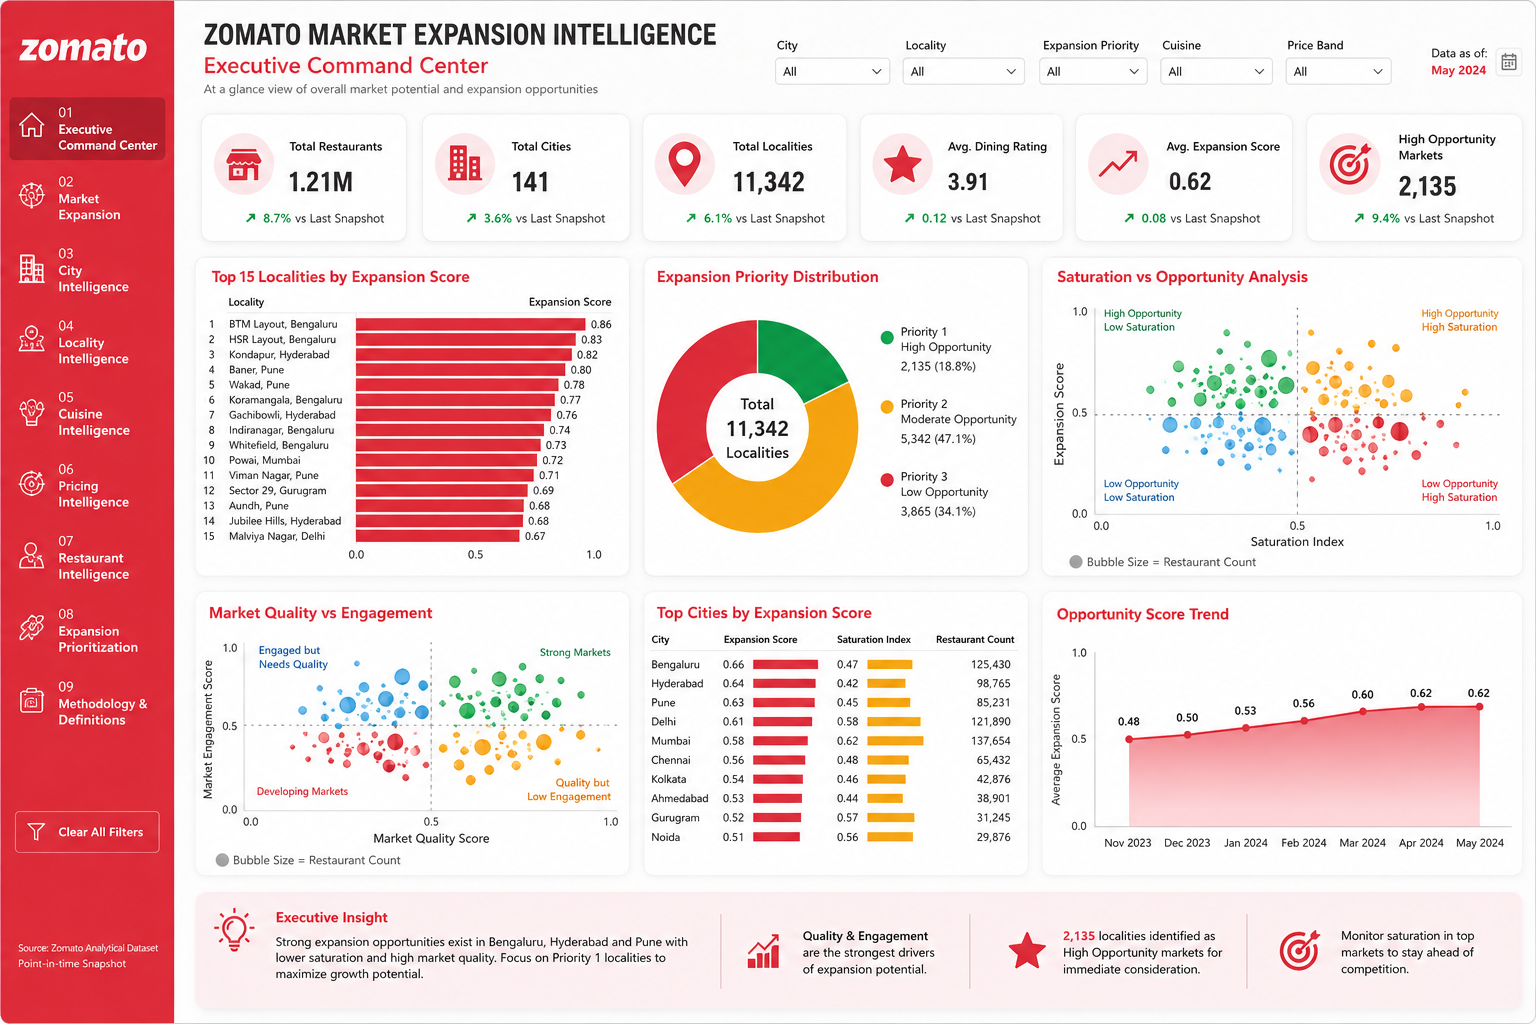

The dashboard page shown, as its layout file describes it:
{"tool":"powerbi","page":{"name":"01 Executive Command Center","canvas":[1280,720],"ordinal":0},"visuals":[{"type":"shape","box":[0,0,178.8,720],"z":0},{"type":"shape","box":[20,71.2,140,56.2],"z":0,"group":"g1"},{"type":"shape","box":[20,130,140,56.2],"z":0,"group":"g2"},{"type":"shape","box":[20,189,140,56.2],"z":0,"group":"g3"},{"type":"shape","box":[20,248,140,56.2],"z":0,"group":"g4"},{"type":"shape","box":[20,307,140,56.2],"z":0,"group":"g5"},{"type":"shape","box":[20,366,140,56.2],"z":0,"group":"g6"},{"type":"shape","box":[20,425,140,56.2],"z":0,"group":"g7"},{"type":"shape","box":[20,484,140,56.2],"z":0,"group":"g8"},{"type":"shape","box":[20,543,140,56.2],"z":0,"group":"g9"},{"type":"image","box":[11.2,12.5,157.5,46.2],"z":1000},{"type":"textbox","box":[64,72.4,25.5,21],"z":1000,"group":"g1"},{"type":"textbox","box":[64,131.2,25.5,21],"z":1000,"group":"g2"},{"type":"textbox","box":[64,190.2,25.5,21],"z":1000,"group":"g3"},{"type":"textbox","box":[64,249.2,25.5,21],"z":1000,"group":"g4"},{"type":"textbox","box":[64,308.2,25.5,21],"z":1000,"group":"g5"},{"type":"textbox","box":[64,367.2,25.5,21],"z":1000,"group":"g6"},{"type":"textbox","box":[64,426.2,25.5,21],"z":1000,"group":"g7"},{"type":"textbox","box":[64,485.2,25.5,21],"z":1000,"group":"g8"},{"type":"textbox","box":[64,544.2,25.5,21],"z":1000,"group":"g9"},{"type":"shape","box":[202.5,86.2,178.8,121.2],"z":2000},{"type":"textbox","box":[67,88,89,42],"z":2000,"group":"g1"},{"type":"textbox","box":[67,146.8,89,42],"z":2000,"group":"g2"},{"type":"textbox","box":[67,205.8,89,42],"z":2000,"group":"g3"},{"type":"textbox","box":[67,264.8,89,42],"z":2000,"group":"g4"},{"type":"textbox","box":[67,323.8,89,42],"z":2000,"group":"g5"},{"type":"textbox","box":[67,382.8,89,42],"z":2000,"group":"g6"},{"type":"textbox","box":[67,441.8,89,42],"z":2000,"group":"g7"},{"type":"textbox","box":[67,500.8,89,42],"z":2000,"group":"g8"},{"type":"textbox","box":[67,559.8,89,42],"z":2000,"group":"g9"},{"type":"shape","box":[381.2,86.2,178.8,121.2],"z":3000},{"type":"shape","box":[560,86.2,178.8,122.5],"z":4000},{"type":"shape","box":[738.8,87.5,178.8,121.2],"z":5000},{"type":"shape","box":[917.5,87.5,178.8,123.8],"z":6000},{"type":"shape","box":[1096.2,86.2,178.8,125],"z":7000},{"type":"shape","box":[202.5,211.2,357.5,212.5],"z":8000},{"type":"shape","box":[560,211.2,357.5,212.5],"z":9000},{"type":"shape","box":[922.5,211.2,357.5,212.5],"z":10000},{"type":"shape","box":[202.5,423.8,357.5,212.5],"z":11000},{"type":"shape","box":[560,423.8,357.5,212.5],"z":12000},{"type":"shape","box":[917.5,423.8,362.5,212.5],"z":13000},{"type":"shape","box":[20.3,626.7,139.8,37.2],"z":14000},{"type":"textbox","box":[0,672.5,178.8,47.5],"z":15000},{"type":"textbox","box":[53,631.2,107.1,29.3],"z":16000},{"type":"image","box":[20,631.8,36.1,27.1],"z":17000},{"type":"group","id":"g1","title":"Group 1","box":[20,71.2,140,58.8],"z":18000},{"type":"group","id":"g2","title":"Group 1","box":[20,130,140,58.3],"z":19000},{"type":"group","id":"g3","title":"Group 1","box":[20,189,140,59],"z":20000},{"type":"group","id":"g4","title":"Group 1","box":[20,248,140,59],"z":21000},{"type":"group","id":"g5","title":"Group 1","box":[20,307,140,59],"z":22000},{"type":"group","id":"g6","title":"Group 1","box":[20,366,140,59],"z":23000},{"type":"group","id":"g7","title":"Group 1","box":[20,425,140,59],"z":24000},{"type":"group","id":"g8","title":"Group 1","box":[20,484,140,59],"z":25000},{"type":"group","id":"g9","title":"Group 1","box":[20,543,140,59],"z":26000},{"type":"image","box":[27,82,33.3,35],"z":27000},{"type":"image","box":[26.7,140.8,33.3,35],"z":28000},{"type":"image","box":[26.7,200,33.3,35],"z":29000},{"type":"image","box":[26.7,260,33.3,35],"z":30000},{"type":"image","box":[26.7,317.5,33.3,35],"z":31000},{"type":"image","box":[26.7,376.7,33.3,35],"z":32000},{"type":"image","box":[26.7,435.8,33.3,35],"z":33000},{"type":"image","box":[26.7,495,33.3,35],"z":34000},{"type":"image","box":[26.7,553.3,33.3,35],"z":35000},{"type":"image","box":[219,123.5,57.5,47.5],"z":36000},{"type":"image","box":[397.5,123.5,57.5,47.5],"z":37000},{"type":"image","box":[576,123.5,57.5,47.5],"z":38000},{"type":"image","box":[755,123.5,57.5,47.5],"z":39000},{"type":"image","box":[928.8,123.8,57.5,47.5],"z":40000},{"type":"image","box":[1110,126.2,57.5,47.5],"z":41000},{"type":"cardVisual","fields":{"Data":["_Measure.Total Restaurants"]},"box":[257.5,123.3,102,60],"z":42000},{"type":"cardVisual","fields":{"Data":["_Measure.Total Cities"]},"box":[455.4,123.8,86.2,60],"z":43000},{"type":"cardVisual","fields":{"Data":["_Measure.Total Localities"]},"box":[613.1,123.8,106.2,60],"z":44000},{"type":"cardVisual","fields":{"Data":["_Measure.Average Dining Rating"]},"box":[793.8,123.1,113.8,60],"z":45000},{"type":"cardVisual","fields":{"Data":["_Measure.Average Expansion Score"]},"box":[986.2,123.8,90,60],"z":46000},{"type":"cardVisual","fields":{"Data":["_Measure.High Opportunity Markets"]},"box":[1179.2,127.7,58.5,60],"z":47000},{"type":"textbox","box":[273,114,89.2,21.2],"z":48000},{"type":"textbox","box":[470,115,60,21],"z":49000},{"type":"textbox","box":[633,115,78,17.5],"z":50000},{"type":"textbox","box":[805,115,102.5,22.5],"z":51000},{"type":"textbox","box":[978,115,118,22.5],"z":52000},{"type":"textbox","box":[1159,110,102.5,37.5],"z":53000},{"type":"shape","box":[202.5,636.2,1072.5,79],"z":54000},{"type":"clusteredColumnChart","title":"Top 7 Cities By Expansion Score","fields":{"Category":["City.city_name"],"Y":["_Measure.Average Expansion Score"]},"box":[217,225.7,330,187],"z":55000},{"type":"scatterChart","title":"Saturation vs Expansion Analysis","fields":{"Series":["City.city_name"],"Size":["Sum(Market Expansion.restaurant_count)"],"X":["Market Expansion.engineered_saturation_index"],"Y":["_Measure.Average Expansion Score"]},"box":[937.5,226.2,328.8,187.5],"z":56000},{"type":"textbox","box":[1171,252,96.4,53.6],"z":57000},{"type":"columnChart","title":"Top Cities By Expansion Score","fields":{"Category":["City.city_name"],"Y":["Sum(Market Expansion.restaurant_count)","Sum(Market Expansion.engineered_saturation_index)","Sum(Market Expansion.engineered_expansion_score)"]},"box":[573.8,433.8,330,192.5],"z":58000},{"type":"donutChart","title":"Restaurant In Top 5 Cities","fields":{"Category":["City.city_name"],"Y":["_Measure.Total Restaurants"]},"box":[570,218.9,337.8,193.3],"z":59000},{"type":"scatterChart","title":"Market Quality vs Engagement","fields":{"X":["Restaurants.quality_score"],"Y":["Sum(Restaurants.engagement_score)"]},"box":[216.7,430,343.3,196.7],"z":60000},{"type":"clusteredColumnChart","title":"Top 5 Cities With Higher Locality","fields":{"Category":["City.city_name"],"Y":["_Measure.Total Localities"]},"box":[930,436.7,336.7,190],"z":61000},{"type":"shape","box":[538.6,645.7,75.7,61.4],"z":62000},{"type":"shape","box":[791.4,645.7,75.7,61.4],"z":63000},{"type":"shape","box":[1037.1,645.7,75.7,61.4],"z":64000},{"type":"image","box":[591.2,656.2,43.6,40],"z":65000},{"type":"image","box":[845,656.2,43.6,40],"z":66000},{"type":"image","box":[1081.2,656.2,43.6,40],"z":67000},{"type":"image","box":[221.7,644.2,35.5,40],"z":68000},{"type":"textbox","box":[264,645,116.2,25],"z":69000},{"type":"textbox","box":[264,658,295,52.5],"z":70000},{"type":"textbox","box":[663,650,142,58],"z":71000},{"type":"textbox","box":[900,650,163.8,57.5],"z":72000},{"type":"textbox","box":[1133,650,137.5,57.5],"z":73000},{"type":"textbox","box":[210,9,482.5,46.2],"z":74000},{"type":"textbox","box":[213,38,262.5,36.2],"z":75000},{"type":"textbox","box":[213,65,447.5,28.8],"z":76000},{"type":"slicer","fields":{"Values":["City.city_name"]},"box":[699.2,14.9,118.3,71.7],"z":77000},{"type":"slicer","fields":{"Values":["Locality.locality_name"]},"box":[810.9,14.9,118.3,71.7],"z":78000},{"type":"slicer","fields":{"Values":["Market Expansion.expansion_priority"]},"box":[922.6,16,118.3,71.7],"z":79000},{"type":"slicer","fields":{"Values":["Cuisine.cuisine_name"]},"box":[1034.2,16,118.3,71.7],"z":80000},{"type":"slicer","fields":{"Values":["Price Band.price_band"]},"box":[1145.9,14.9,118.3,71.7],"z":81000}]}

Visuals, with their boxes on the page's 1280x720 design canvas (x1, y1, x2, y2). These are canvas units, not pixel positions in the 1536x1024 screenshot, which may show the page scaled, cropped or inside an application window:
shape: bbox=(0, 0, 179, 720)
shape: bbox=(20, 71, 160, 127)
shape: bbox=(20, 130, 160, 186)
shape: bbox=(20, 189, 160, 245)
shape: bbox=(20, 248, 160, 304)
shape: bbox=(20, 307, 160, 363)
shape: bbox=(20, 366, 160, 422)
shape: bbox=(20, 425, 160, 481)
shape: bbox=(20, 484, 160, 540)
shape: bbox=(20, 543, 160, 599)
image: bbox=(11, 12, 169, 59)
textbox: bbox=(64, 72, 90, 93)
textbox: bbox=(64, 131, 90, 152)
textbox: bbox=(64, 190, 90, 211)
textbox: bbox=(64, 249, 90, 270)
textbox: bbox=(64, 308, 90, 329)
textbox: bbox=(64, 367, 90, 388)
textbox: bbox=(64, 426, 90, 447)
textbox: bbox=(64, 485, 90, 506)
textbox: bbox=(64, 544, 90, 565)
shape: bbox=(202, 86, 381, 207)
textbox: bbox=(67, 88, 156, 130)
textbox: bbox=(67, 147, 156, 189)
textbox: bbox=(67, 206, 156, 248)
textbox: bbox=(67, 265, 156, 307)
textbox: bbox=(67, 324, 156, 366)
textbox: bbox=(67, 383, 156, 425)
textbox: bbox=(67, 442, 156, 484)
textbox: bbox=(67, 501, 156, 543)
textbox: bbox=(67, 560, 156, 602)
shape: bbox=(381, 86, 560, 207)
shape: bbox=(560, 86, 739, 209)
shape: bbox=(739, 88, 918, 209)
shape: bbox=(918, 88, 1096, 211)
shape: bbox=(1096, 86, 1275, 211)
shape: bbox=(202, 211, 560, 424)
shape: bbox=(560, 211, 918, 424)
shape: bbox=(922, 211, 1280, 424)
shape: bbox=(202, 424, 560, 636)
shape: bbox=(560, 424, 918, 636)
shape: bbox=(918, 424, 1280, 636)
shape: bbox=(20, 627, 160, 664)
textbox: bbox=(0, 672, 179, 720)
textbox: bbox=(53, 631, 160, 660)
image: bbox=(20, 632, 56, 659)
"Group 1" group: bbox=(20, 71, 160, 130)
"Group 1" group: bbox=(20, 130, 160, 188)
"Group 1" group: bbox=(20, 189, 160, 248)
"Group 1" group: bbox=(20, 248, 160, 307)
"Group 1" group: bbox=(20, 307, 160, 366)
"Group 1" group: bbox=(20, 366, 160, 425)
"Group 1" group: bbox=(20, 425, 160, 484)
"Group 1" group: bbox=(20, 484, 160, 543)
"Group 1" group: bbox=(20, 543, 160, 602)
image: bbox=(27, 82, 60, 117)
image: bbox=(27, 141, 60, 176)
image: bbox=(27, 200, 60, 235)
image: bbox=(27, 260, 60, 295)
image: bbox=(27, 318, 60, 352)
image: bbox=(27, 377, 60, 412)
image: bbox=(27, 436, 60, 471)
image: bbox=(27, 495, 60, 530)
image: bbox=(27, 553, 60, 588)
image: bbox=(219, 124, 276, 171)
image: bbox=(398, 124, 455, 171)
image: bbox=(576, 124, 634, 171)
image: bbox=(755, 124, 812, 171)
image: bbox=(929, 124, 986, 171)
image: bbox=(1110, 126, 1168, 174)
cardVisual - _Measure.Total Restaurants: bbox=(258, 123, 360, 183)
cardVisual - _Measure.Total Cities: bbox=(455, 124, 542, 184)
cardVisual - _Measure.Total Localities: bbox=(613, 124, 719, 184)
cardVisual - _Measure.Average Dining Rating: bbox=(794, 123, 908, 183)
cardVisual - _Measure.Average Expansion Score: bbox=(986, 124, 1076, 184)
cardVisual - _Measure.High Opportunity Markets: bbox=(1179, 128, 1238, 188)
textbox: bbox=(273, 114, 362, 135)
textbox: bbox=(470, 115, 530, 136)
textbox: bbox=(633, 115, 711, 132)
textbox: bbox=(805, 115, 908, 138)
textbox: bbox=(978, 115, 1096, 138)
textbox: bbox=(1159, 110, 1262, 148)
shape: bbox=(202, 636, 1275, 715)
"Top 7 Cities By Expansion Score" clusteredColumnChart: bbox=(217, 226, 547, 413)
"Saturation vs Expansion Analysis" scatterChart: bbox=(938, 226, 1266, 414)
textbox: bbox=(1171, 252, 1267, 306)
"Top Cities By Expansion Score" columnChart: bbox=(574, 434, 904, 626)
"Restaurant In Top 5 Cities" donutChart: bbox=(570, 219, 908, 412)
"Market Quality vs Engagement" scatterChart: bbox=(217, 430, 560, 627)
"Top 5 Cities With Higher Locality" clusteredColumnChart: bbox=(930, 437, 1267, 627)
shape: bbox=(539, 646, 614, 707)
shape: bbox=(791, 646, 867, 707)
shape: bbox=(1037, 646, 1113, 707)
image: bbox=(591, 656, 635, 696)
image: bbox=(845, 656, 889, 696)
image: bbox=(1081, 656, 1125, 696)
image: bbox=(222, 644, 257, 684)
textbox: bbox=(264, 645, 380, 670)
textbox: bbox=(264, 658, 559, 710)
textbox: bbox=(663, 650, 805, 708)
textbox: bbox=(900, 650, 1064, 708)
textbox: bbox=(1133, 650, 1270, 708)
textbox: bbox=(210, 9, 692, 55)
textbox: bbox=(213, 38, 476, 74)
textbox: bbox=(213, 65, 660, 94)
slicer - City.city_name: bbox=(699, 15, 818, 87)
slicer - Locality.locality_name: bbox=(811, 15, 929, 87)
slicer - Market Expansion.expansion_priority: bbox=(923, 16, 1041, 88)
slicer - Cuisine.cuisine_name: bbox=(1034, 16, 1152, 88)
slicer - Price Band.price_band: bbox=(1146, 15, 1264, 87)
